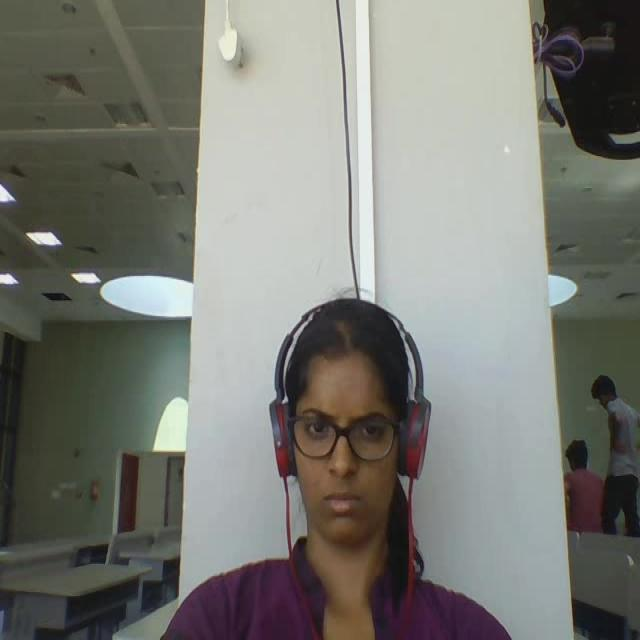Engaged: (251, 275, 451, 577)
